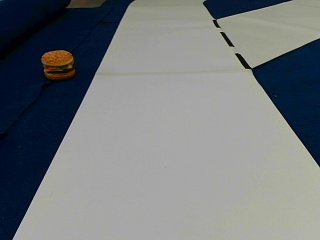burger: (40, 48, 75, 79)
